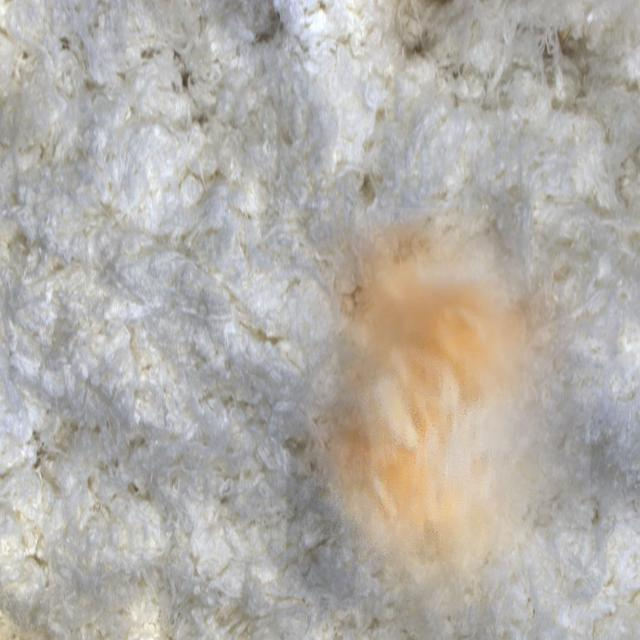dust: (286, 207, 590, 640)
